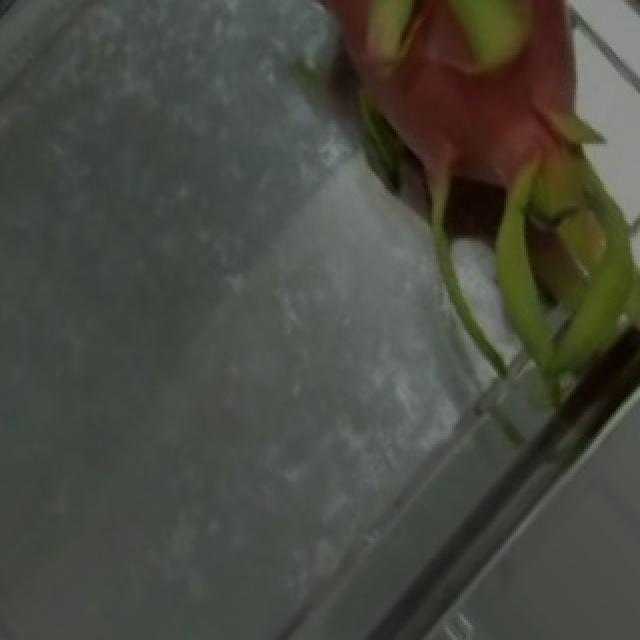fruit: (232, 0, 638, 402)
